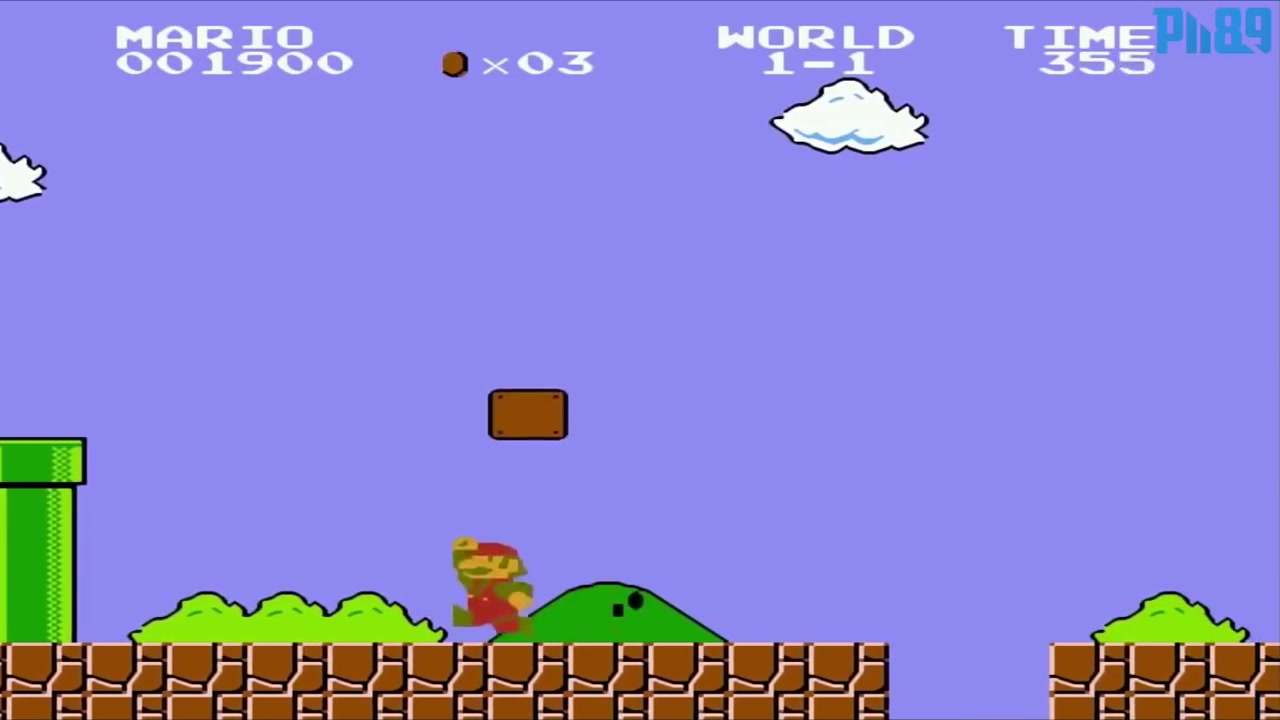mario: (436, 531, 555, 641)
